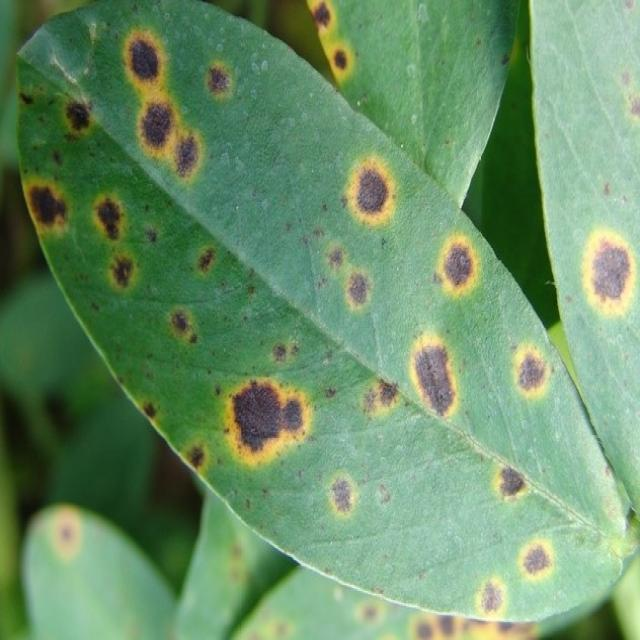Enfermedad-Mancha-de-hierro: (15, 0, 640, 634)
